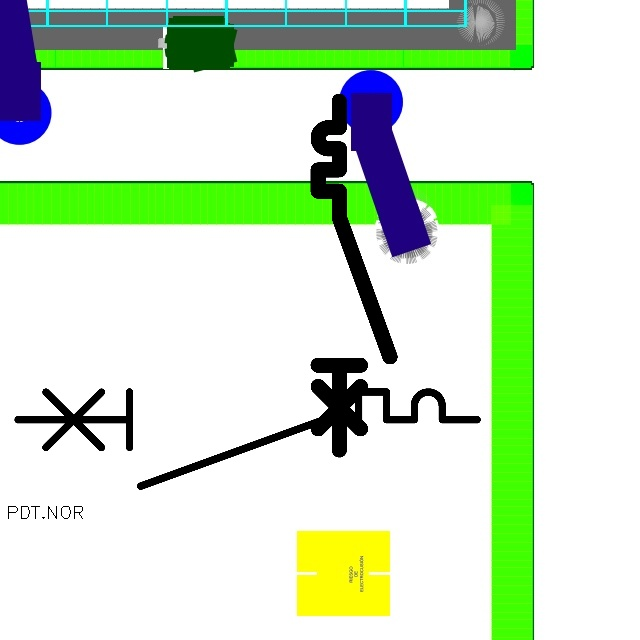interruptor_termomagnetico: (6, 380, 489, 498), (309, 92, 399, 459)
